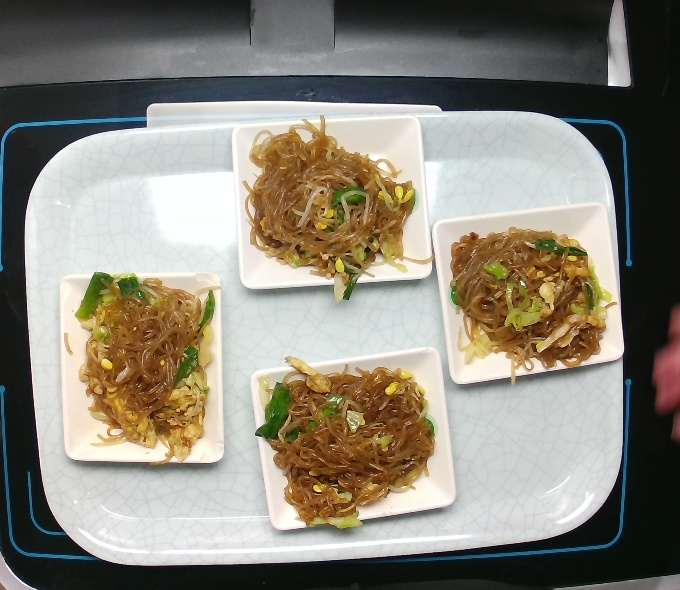wcq-FenSiChaoDan: (237, 117, 424, 304), (254, 347, 441, 530), (67, 263, 228, 472), (450, 212, 613, 397)
